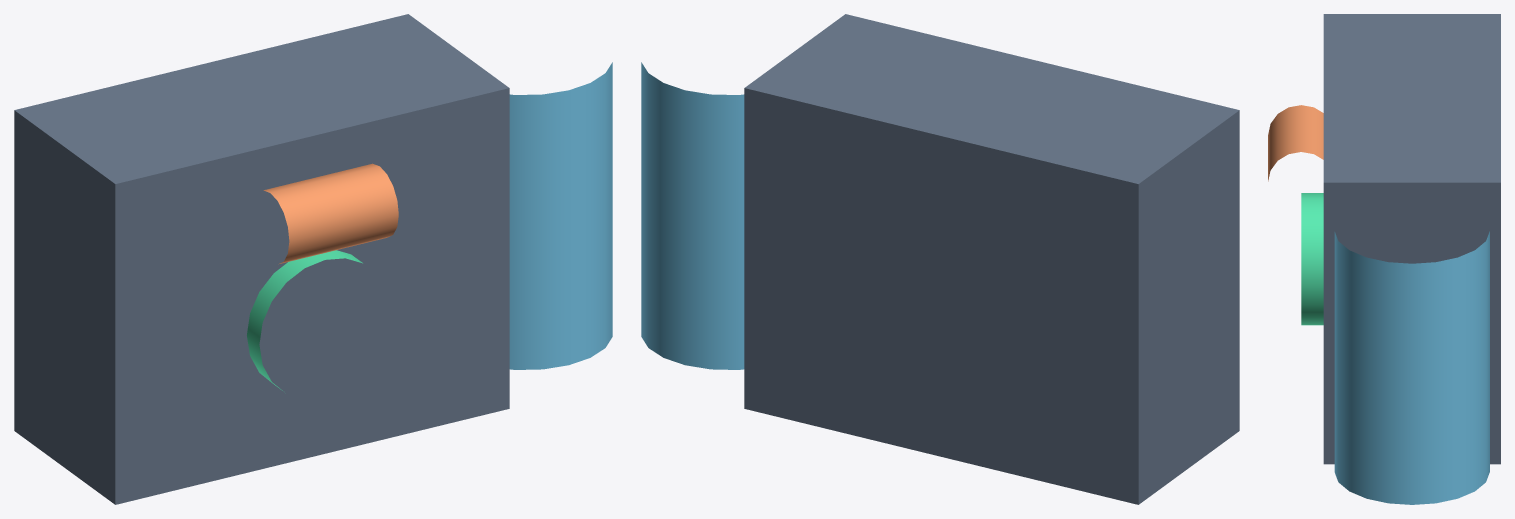
Rendered from energy_audit_conservation.glb.
The picture shows the model from 3 angles, left to right: view 1: azimuth 30°, elevation 25°; view 2: azimuth 150°, elevation 25°; view 3: azimuth 270°, elevation 25°; orthographic projection. The views are drawn at different scales.
Visible parts, largest first — view 1: PowerQualityAnalyzerChassis, APFCCapacitorBankUnit, ThermalImagingSensor, SankeyEnergyGaugeDial; view 2: PowerQualityAnalyzerChassis, APFCCapacitorBankUnit; view 3: PowerQualityAnalyzerChassis, APFCCapacitorBankUnit, SankeyEnergyGaugeDial, ThermalImagingSensor.
Boxes of the visible parts, x1,y1,x2,y2 form: PowerQualityAnalyzerChassis: (14, 14, 509, 504); APFCCapacitorBankUnit: (509, 62, 612, 369); ThermalImagingSensor: (263, 163, 398, 264); SankeyEnergyGaugeDial: (247, 250, 362, 390); PowerQualityAnalyzerChassis: (744, 14, 1239, 504); APFCCapacitorBankUnit: (641, 62, 744, 369); PowerQualityAnalyzerChassis: (1323, 14, 1500, 464); APFCCapacitorBankUnit: (1334, 231, 1489, 504); SankeyEnergyGaugeDial: (1301, 193, 1323, 325); ThermalImagingSensor: (1268, 105, 1323, 181).
Bounding box in the file's own units: 2.45 × 1.4 × 1.05.
